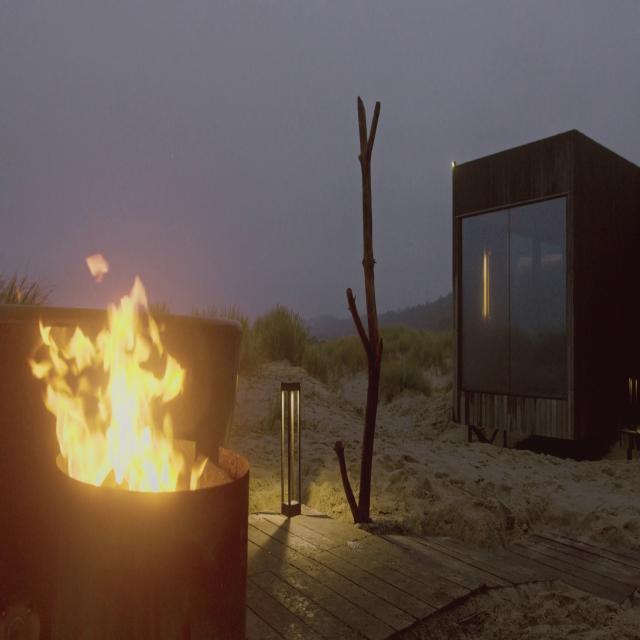Fire: (21, 244, 200, 493)
